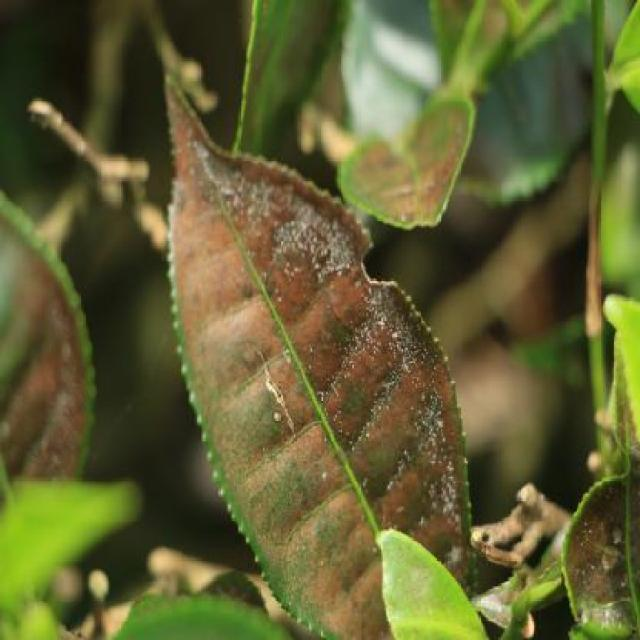Red Spider infested tea leaf: (143, 87, 490, 640)
